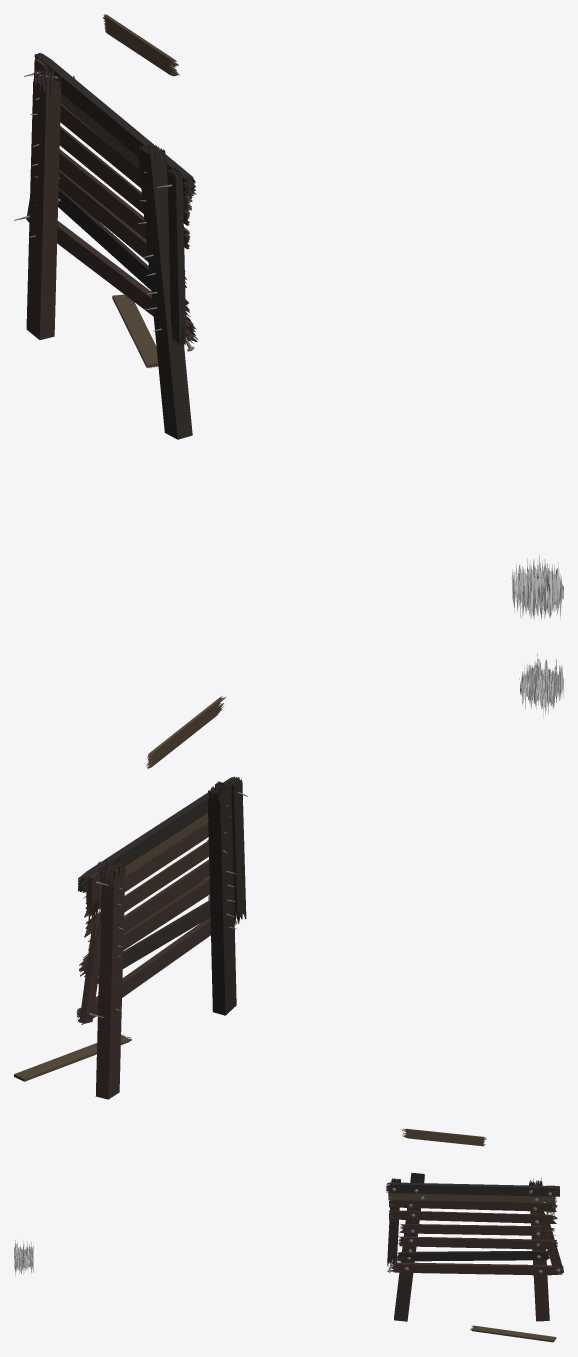
Rendered from NoticeBoard.fbx.
3 views of the same model, one above another, from view 1: azimuth 30°, elevation 25°; view 2: azimuth 150°, elevation 25°; view 3: azimuth 270°, elevation 25° (orthographic). The views are drawn at different scales.
Visible parts, largest first — view 1: Cube.022, Cube.021, Cube.010, Cube.013, Cube.011, Plane.001, Cube.019, Cube.017, Cube.018, Cube.023, Cube.014, Cube.015 (+2 smaller); view 2: Cube.022, Cube.021, Cube.010, Cube.011, Cube.013, Cube.018, Plane.001, Cube.019, Cube.023, Cube.017, Cube.014, Cube.020 (+4 smaller); view 3: Cube.010, Cube.011, Cube.018, Cube.023, Cube.019, Cube.017, Cube.014, Cube.009, Cube.021, Cube.022, Cube.016, Cube.015 (+3 smaller).
Boxes of the visible parts, x1,y1,x2,y2 form: Cube.022: (26, 61, 61, 339); Cube.021: (137, 144, 192, 439); Cube.010: (34, 53, 196, 197); Cube.013: (167, 167, 185, 346); Cube.011: (57, 221, 198, 343); Plane.001: (511, 555, 563, 620); Cube.019: (58, 188, 191, 321); Cube.017: (59, 149, 146, 239); Cube.018: (58, 169, 187, 287); Cube.023: (59, 126, 189, 249); Cube.014: (60, 104, 189, 225); Cube.015: (112, 294, 158, 368); Cube.022: (95, 857, 125, 1099); Cube.021: (207, 781, 236, 1015); Cube.010: (78, 776, 235, 892); Cube.011: (77, 917, 210, 1024); Cube.013: (228, 777, 246, 923); Cube.018: (79, 876, 209, 976); Plane.001: (519, 653, 563, 718); Cube.019: (84, 900, 210, 983); Cube.023: (84, 840, 209, 937); Cube.017: (83, 859, 209, 957); Cube.014: (84, 823, 208, 917); Cube.020: (79, 908, 101, 1023); Cube.010: (386, 1182, 559, 1196); Cube.011: (390, 1262, 563, 1275); Cube.018: (397, 1236, 557, 1249); Cube.023: (389, 1210, 557, 1223); Cube.019: (394, 1250, 552, 1261); Cube.017: (399, 1224, 557, 1236); Cube.014: (389, 1198, 557, 1211); Cube.009: (388, 1191, 557, 1202); Cube.021: (394, 1172, 424, 1321); Cube.022: (529, 1177, 549, 1321); Cube.016: (400, 1128, 486, 1146); Cube.015: (470, 1325, 556, 1342).
Size of the model in its own units: 204 by 582 by 1516.
